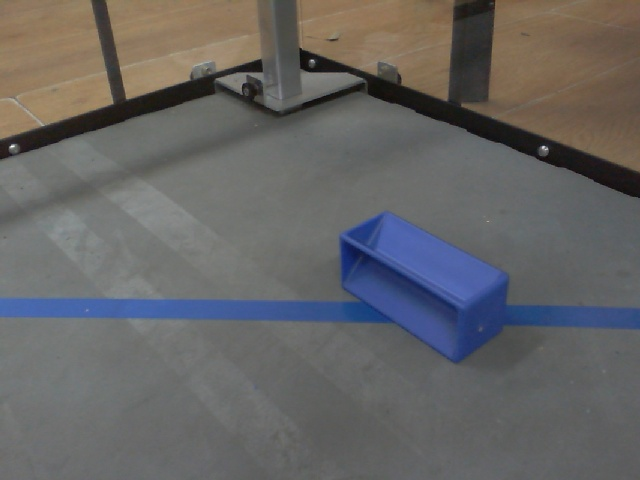BlueSample: (334, 210, 513, 368)
